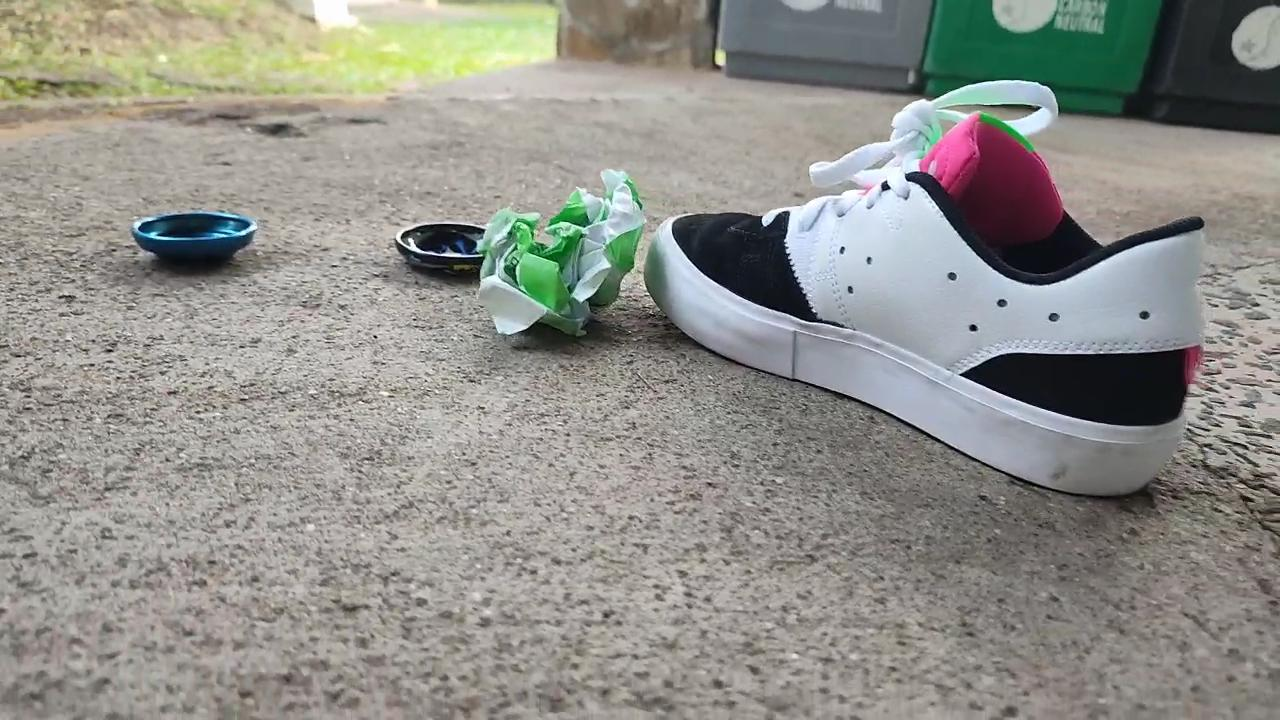Paper: (464, 138, 656, 362)
